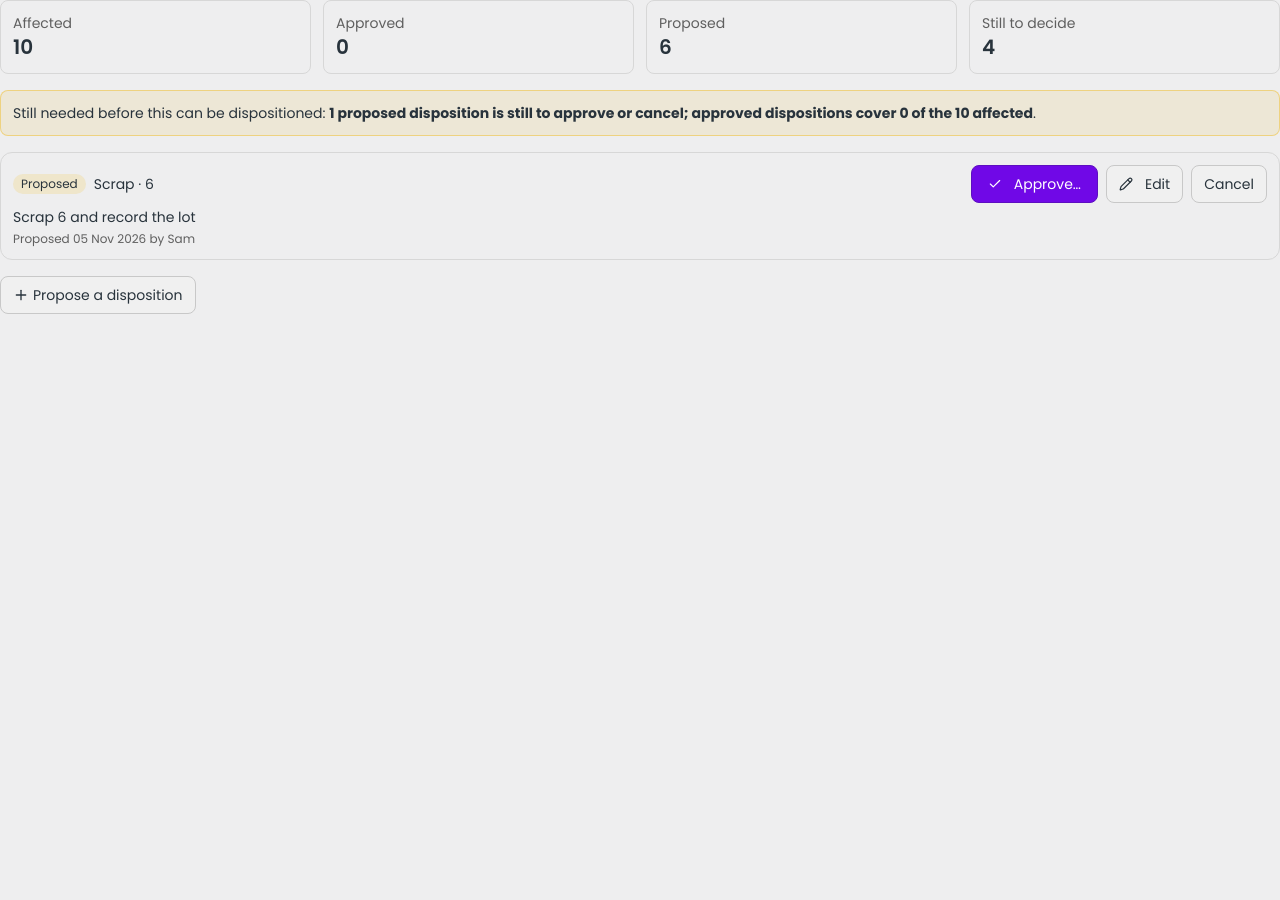
dispositions › asks for the customer's approval reference when the decision is a concession
What coordinates should you click on to do the following:
click the button "Propose a disposition"
I would click on:
 (98, 295)
Its box is [0,276,196,314].
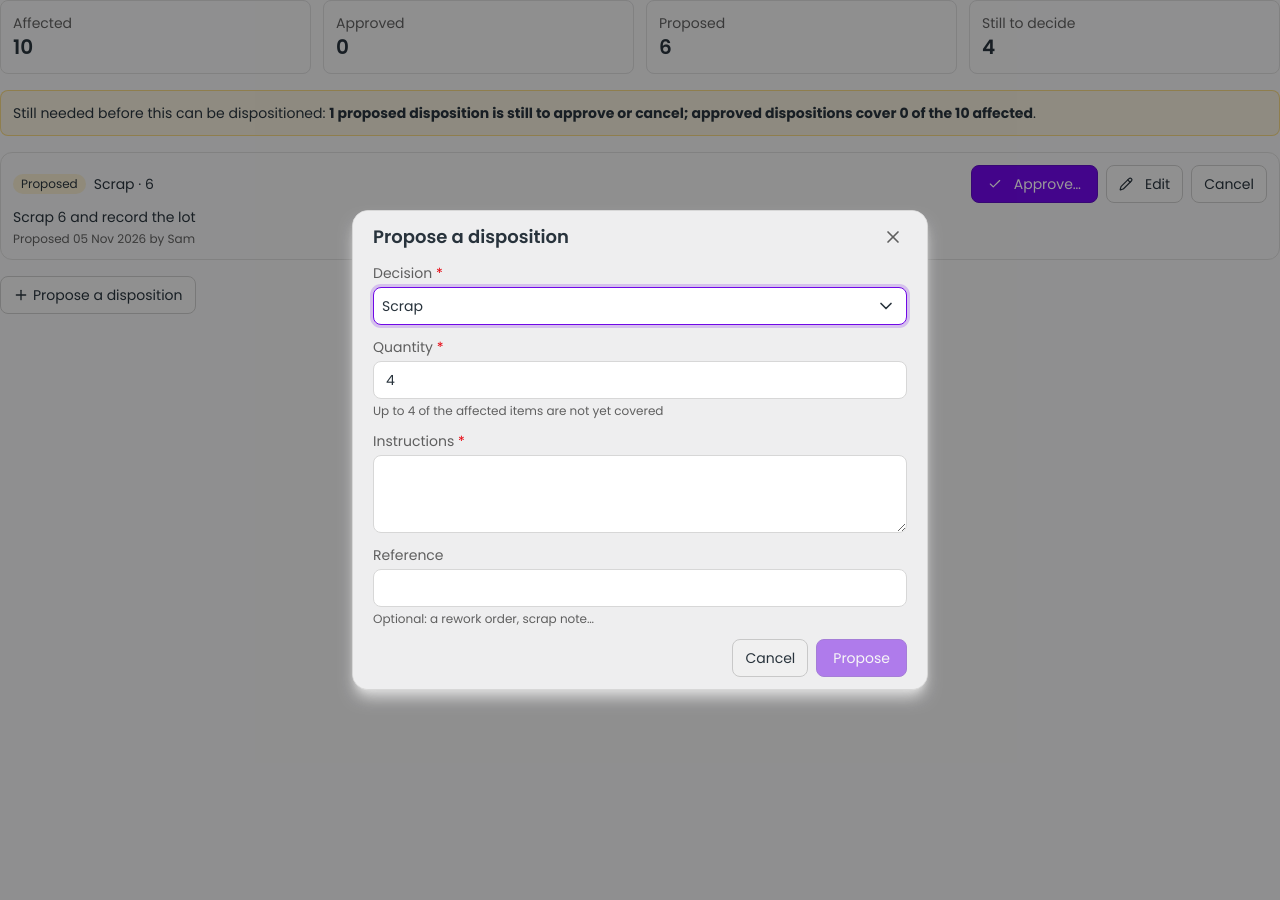
What coordinates should you click on to do the following:
click the dropdown labelled "Decision"
I would click on:
 (622, 306)
Its box is [382,296,862,316].
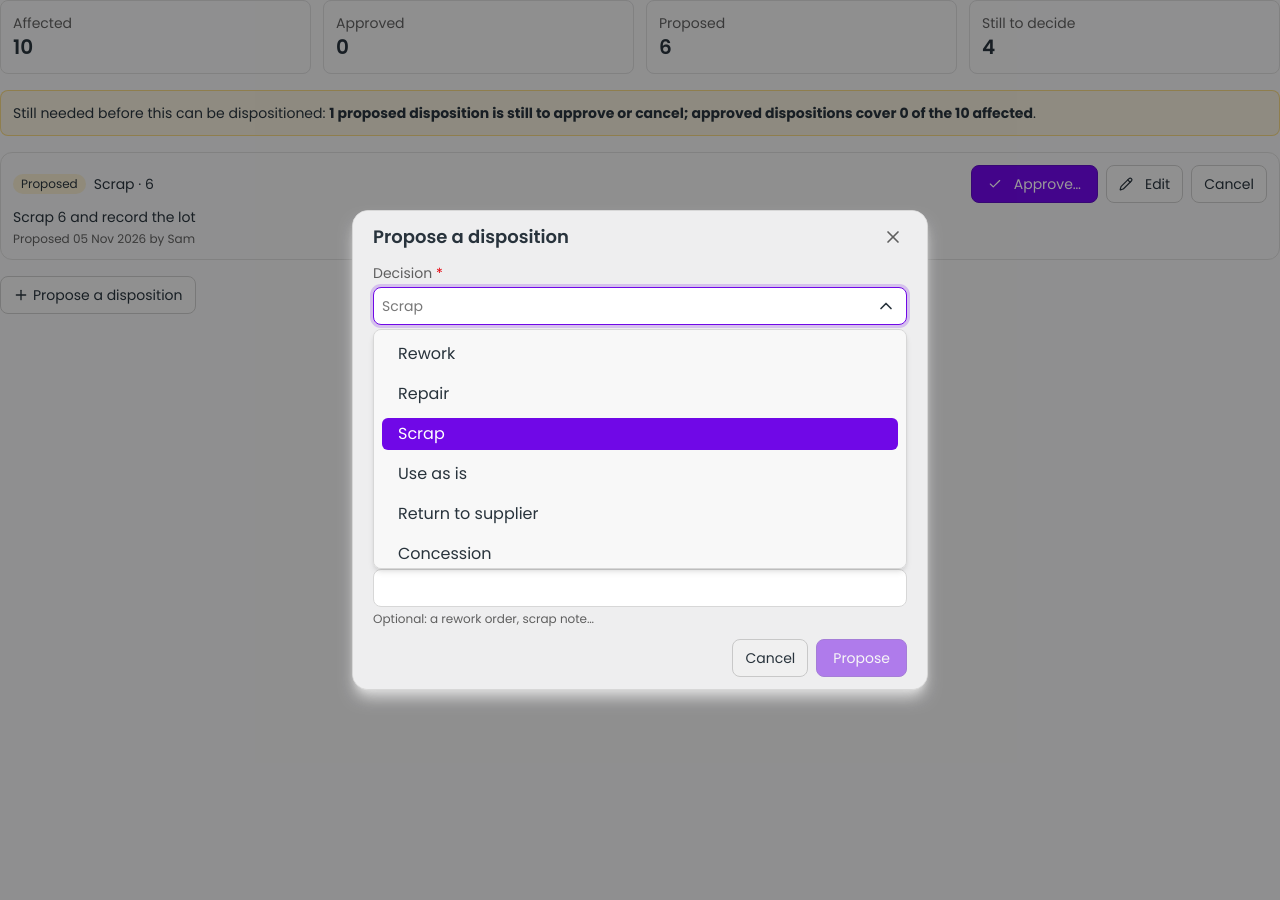
What coordinates should you click on to do the following:
click the option "Concession"
I would click on:
 (445, 554)
Its box is [398,542,492,565].
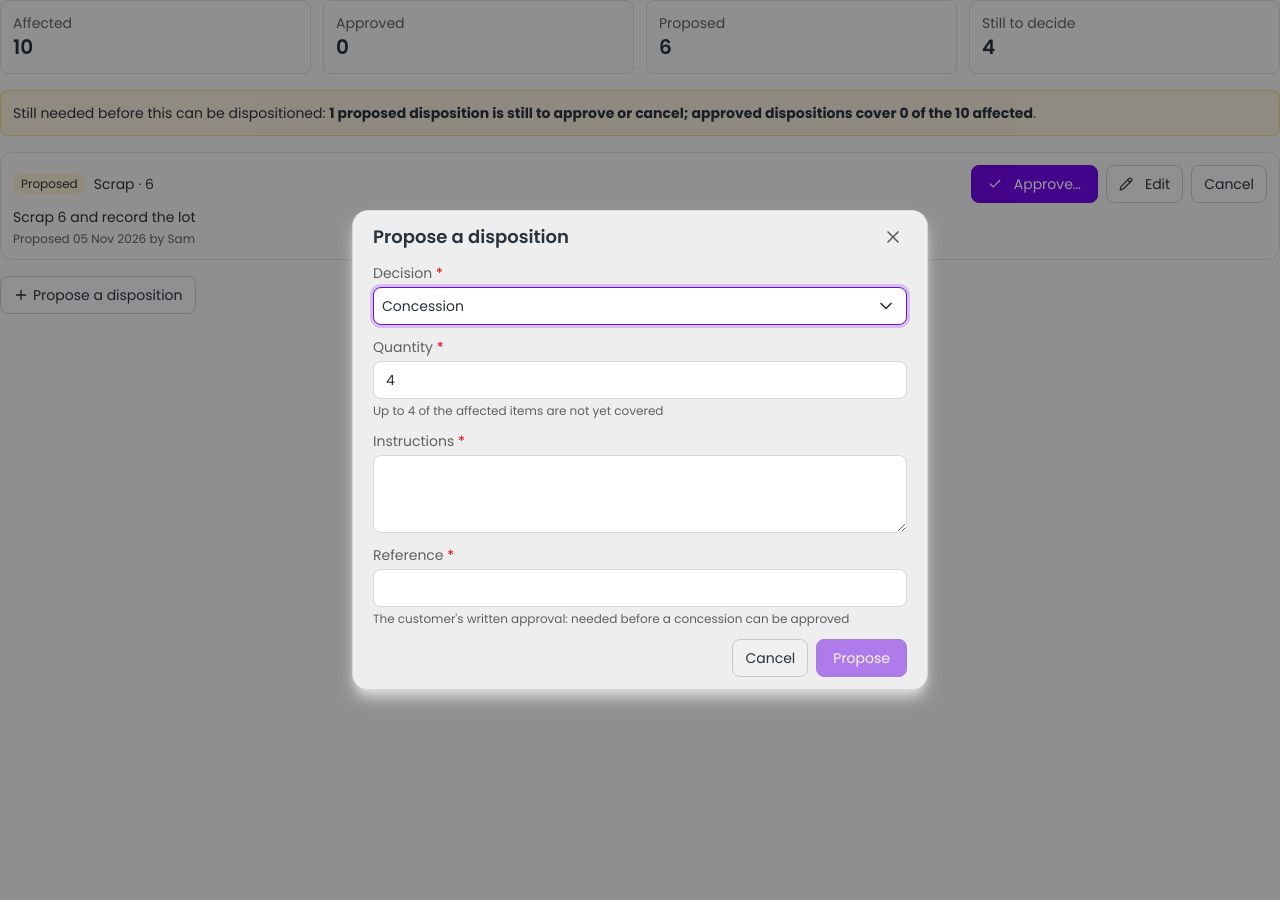
Now the text "The customer's written approval: needed before a concession can be approved" is shown, box [373,611,907,627]
